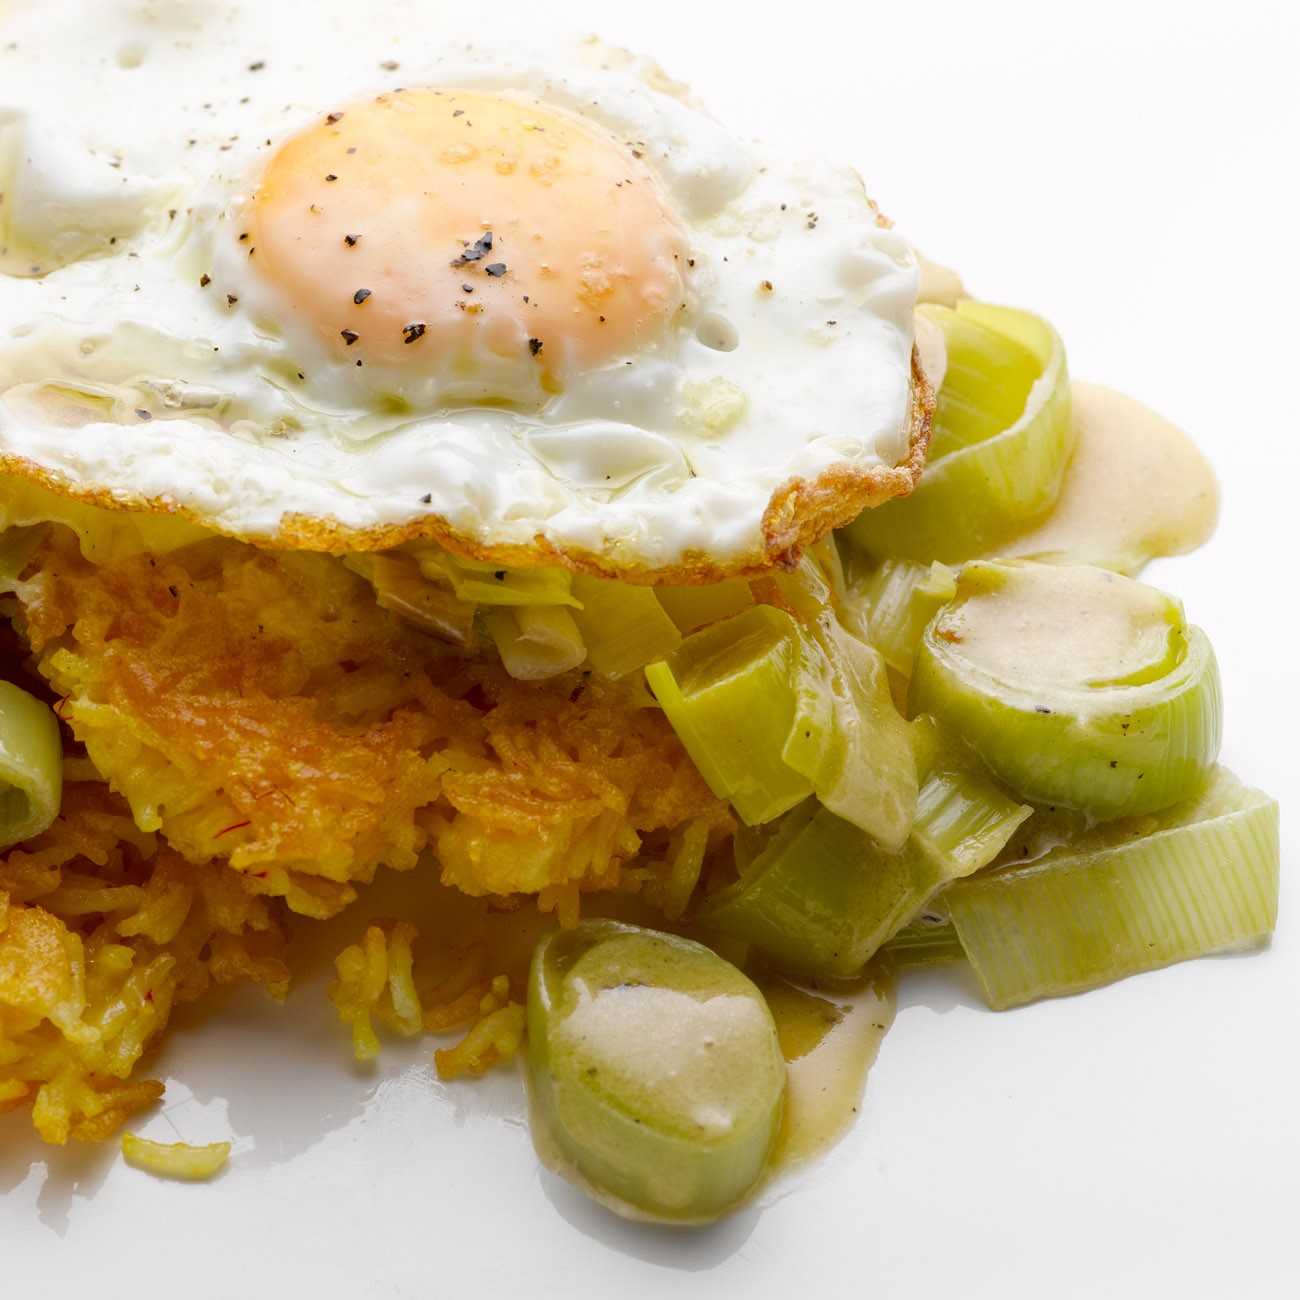chopped lettuce: (690, 590, 1177, 910)
fried egg: (120, 80, 804, 513)
